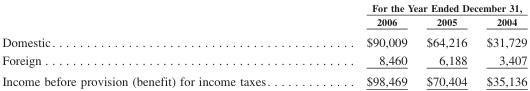table: (1, 1, 526, 87)
table column: (1, 1, 317, 87), (317, 1, 416, 87), (416, 1, 476, 87), (476, 1, 526, 87)
table column header: (1, 1, 526, 30)
table row: (1, 30, 526, 50), (1, 50, 526, 70), (1, 13, 526, 30), (1, 70, 526, 87), (1, 1, 526, 13)
table spanning cell: (317, 1, 526, 13)
